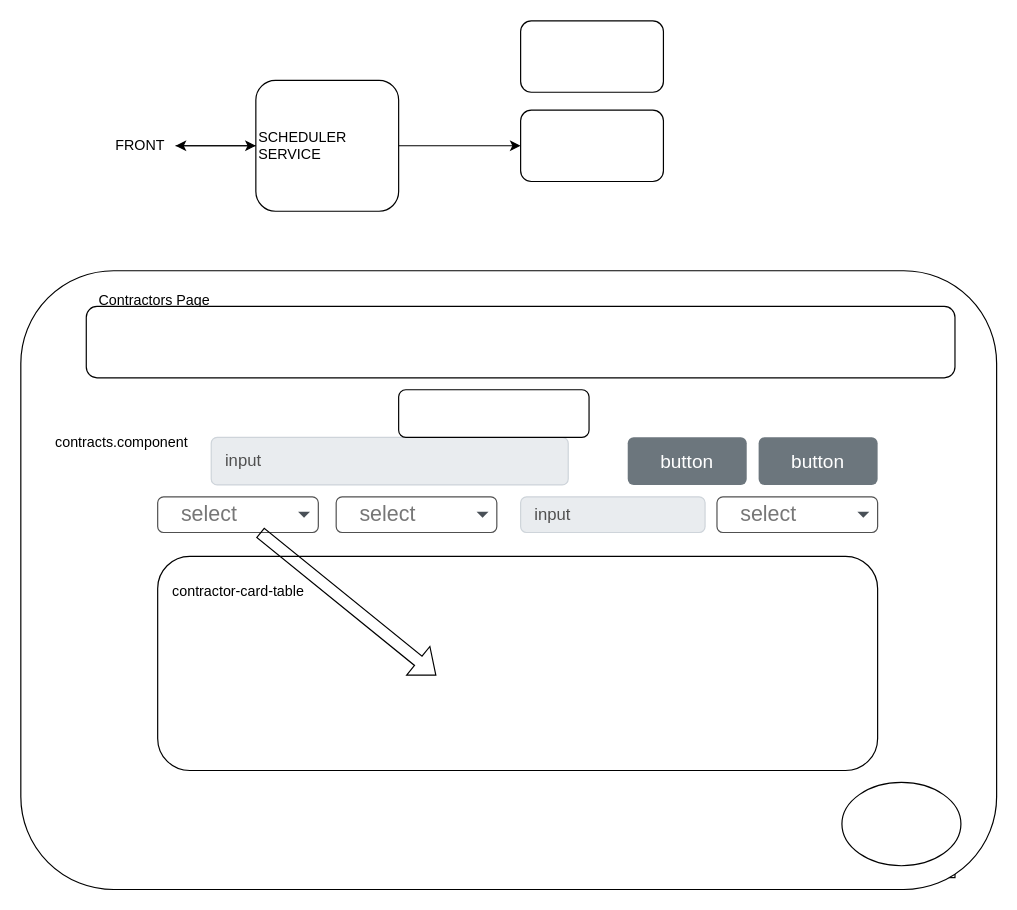
Some shapes in this 1017 by 910 pixel diagram are drawn without their labels. Each missing label, with the centre of its shape:
"API REST" belongs at [591,56].
"menu-bar.component" belongs at [520,341].
"message-component" belongs at [901,823].
"MOCK contractor-mock user-mock" belongs at [591,145].
"welcome-banner.component" belongs at [493,413].
